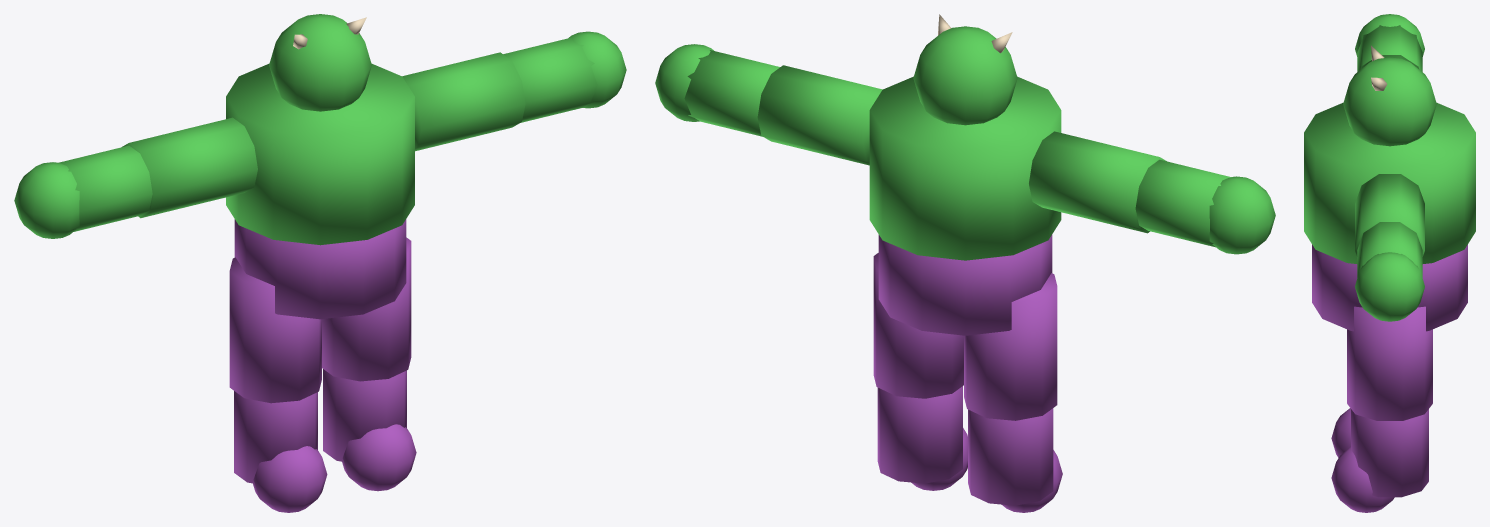
The model's file is buto_ijo_without_bones.fbx.
The picture shows the model from 3 angles, left to right: view 1: azimuth 30°, elevation 25°; view 2: azimuth 150°, elevation 25°; view 3: azimuth 270°, elevation 25°; orthographic projection. The views are drawn at different scales.
Visible parts, largest first — view 1: UpperTorso, LowerTorso, LeftUpperLeg, LeftUpperArm, RightUpperArm, Head, RightUpperLeg, LeftLowerArm, RightLowerLeg, LeftLowerLeg, RightLowerArm, LeftHand (+3 smaller); view 2: UpperTorso, LowerTorso, LeftUpperLeg, LeftUpperArm, RightUpperArm, Head, LeftLowerLeg, RightLowerLeg, RightUpperLeg, LeftLowerArm, RightLowerArm, LeftHand (+2 smaller); view 3: UpperTorso, RightUpperLeg, Head, LowerTorso, RightLowerLeg, RightHand, RightUpperArm, RightLowerArm, RightFoot, LeftLowerArm, LeftHand, LeftFoot.
Boxes of the visible parts, x1,y1,x2,y2 form: UpperTorso: (226, 63, 414, 245); LowerTorso: (234, 219, 406, 319); LeftUpperLeg: (229, 257, 321, 403); LeftUpperArm: (122, 117, 257, 218); RightUpperArm: (402, 52, 525, 151); Head: (269, 14, 371, 111); RightUpperLeg: (322, 237, 411, 381); LeftLowerArm: (57, 145, 152, 231); RightLowerLeg: (323, 369, 406, 461); LeftLowerLeg: (234, 391, 317, 483); RightLowerArm: (503, 37, 597, 122); LeftHand: (14, 162, 79, 238); UpperTorso: (869, 76, 1061, 260); LowerTorso: (878, 234, 1052, 335); LeftUpperLeg: (964, 273, 1057, 420); LeftUpperArm: (1029, 131, 1166, 233); RightUpperArm: (757, 65, 882, 165); Head: (913, 26, 1017, 125); LeftLowerLeg: (968, 408, 1053, 505); RightLowerLeg: (877, 386, 962, 483); RightUpperLeg: (873, 253, 963, 398); LeftLowerArm: (1135, 159, 1232, 247); RightLowerArm: (684, 50, 779, 136); LeftHand: (1209, 176, 1275, 254); UpperTorso: (1304, 102, 1475, 263); RightUpperLeg: (1347, 306, 1432, 420); Head: (1343, 57, 1436, 146); LowerTorso: (1312, 244, 1467, 331); RightLowerLeg: (1351, 409, 1428, 497); RightHand: (1355, 252, 1424, 321); RightUpperArm: (1355, 174, 1424, 256); RightLowerArm: (1357, 222, 1422, 277); RightFoot: (1331, 447, 1394, 512); LeftLowerArm: (1357, 25, 1422, 71); LeftHand: (1355, 14, 1424, 56); LeftFoot: (1331, 408, 1350, 457).
Bounding box in the file's own units: 81 × 60.54 × 22.
